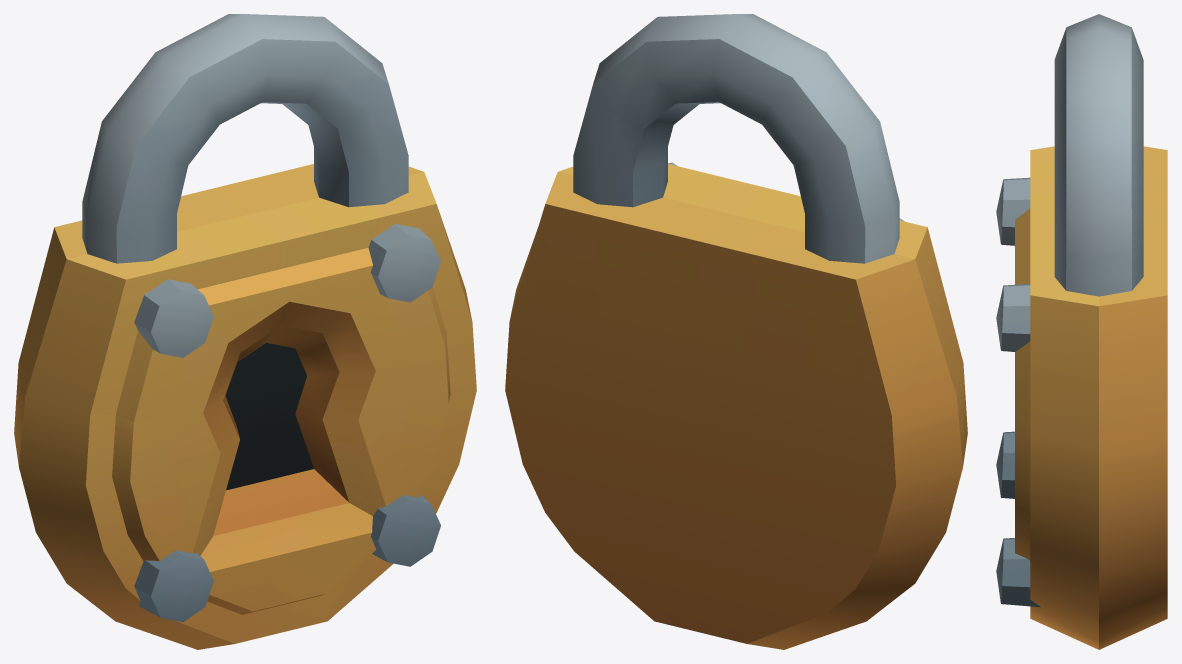
Rendered from lock_C.gltf.
3 views of the same model, side by side, from view 1: azimuth 30°, elevation 25°; view 2: azimuth 150°, elevation 25°; view 3: azimuth 270°, elevation 25° (orthographic). The views are drawn at different scales.
Visible parts, largest first — view 1: lock_C, lock_C_part; view 2: lock_C, lock_C_part; view 3: lock_C, lock_C_part.
Boxes of the visible parts, bbox=[...] form: lock_C: bbox=[14, 164, 476, 649]; lock_C_part: bbox=[82, 14, 408, 263]; lock_C: bbox=[505, 162, 967, 649]; lock_C_part: bbox=[573, 14, 899, 263]; lock_C: bbox=[996, 146, 1167, 649]; lock_C_part: bbox=[1054, 14, 1143, 296].
Size of the model in its own units: 0.7223 by 0.9509 by 0.2471.
1 material, 1 textured.
